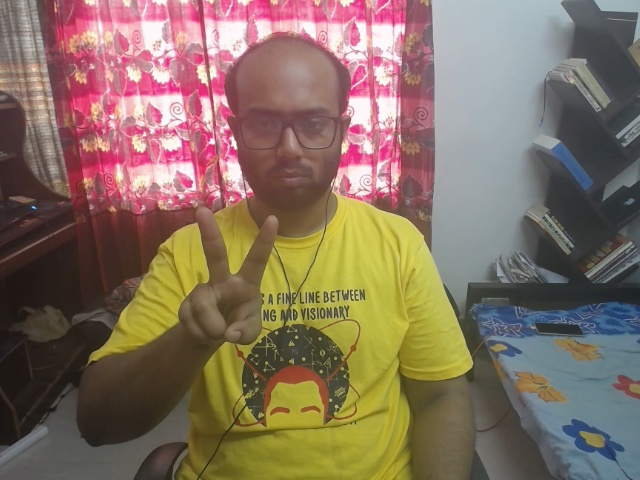two: (151, 198, 306, 367)
